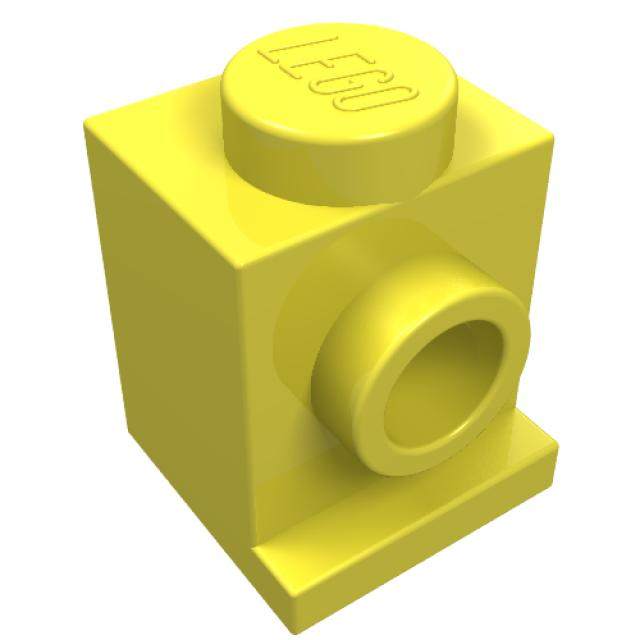Yellow_Small: (83, 22, 561, 636)
